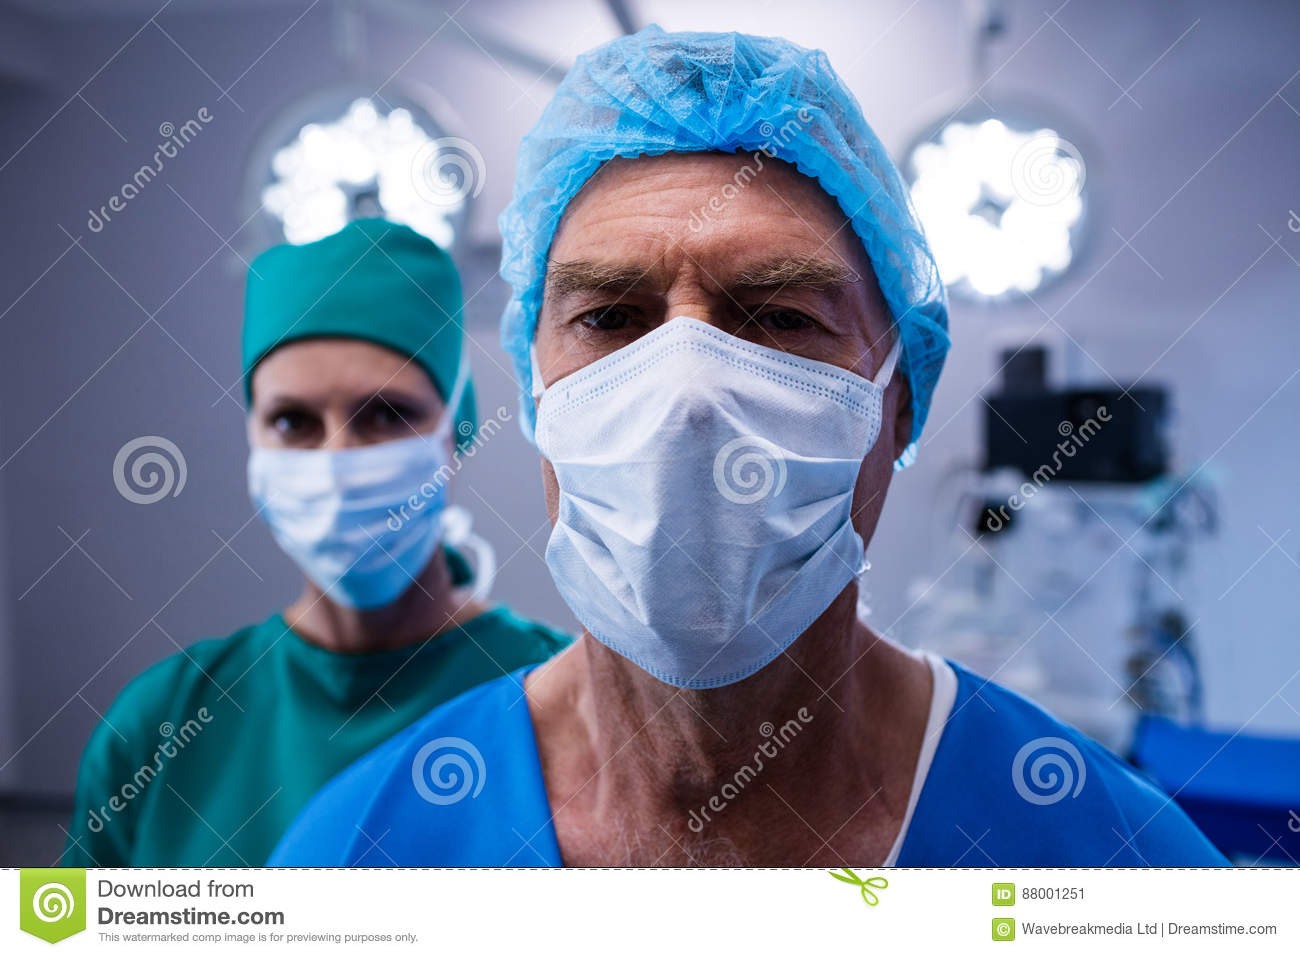mask: (539, 332, 914, 670), (233, 446, 461, 596)
